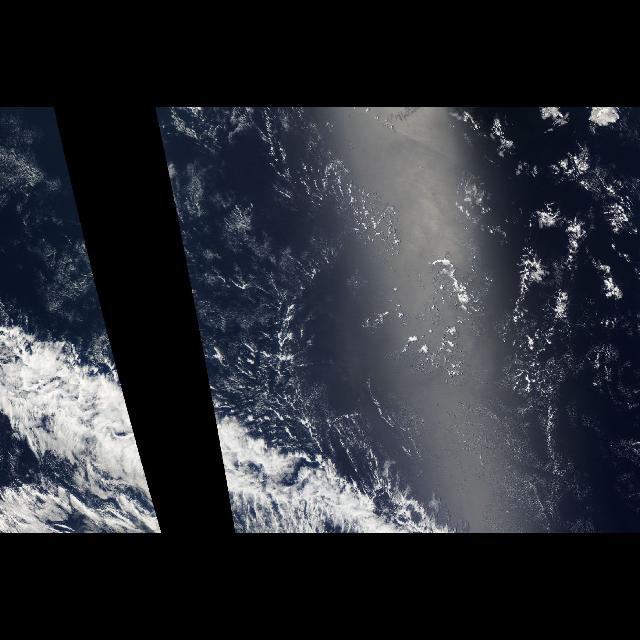Fish: (188, 287, 456, 533), (3, 287, 163, 533)
Flower: (450, 110, 638, 380)
Gravel: (155, 113, 639, 391)
Sugar: (178, 116, 398, 356)
